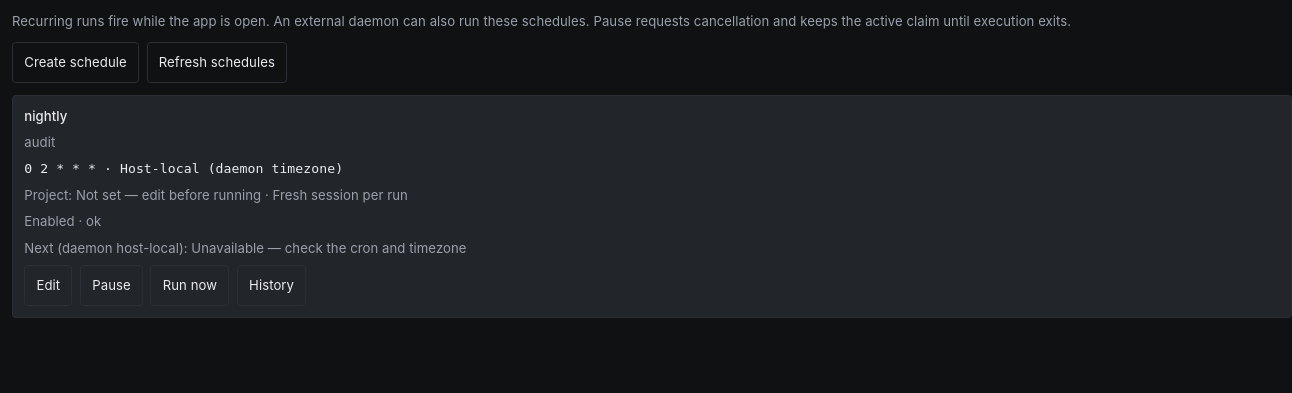
Test: SchedulesPane › expands history via poll
Check: the heading "nightly" is shown, box [24,108,67,124]
What coordinates should you click on to do the following:
click the button with aria-label "History for nightly"
I would click on:
 (272, 285)
Its box is [237,265,306,306].
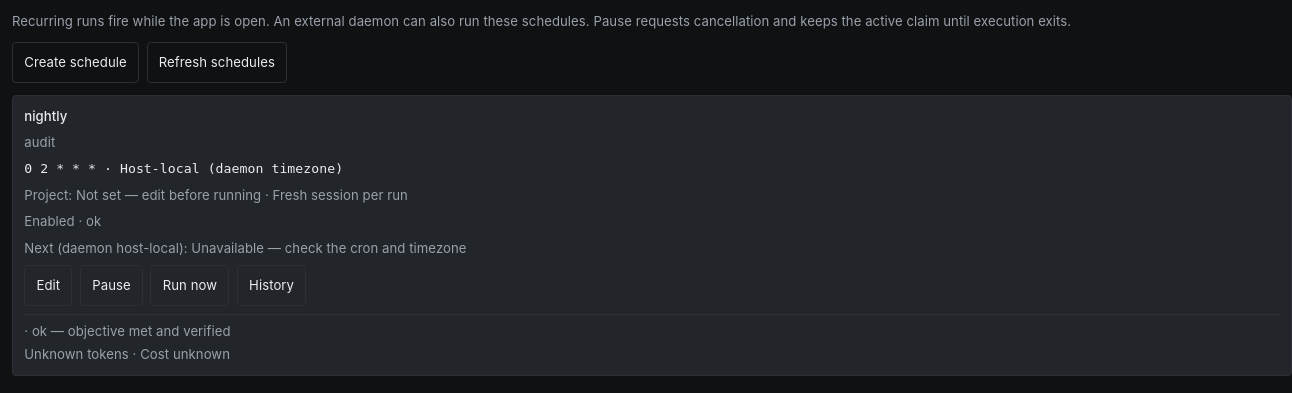
Check: the text "· ok — objective met and verified" is shown, box [24,323,230,339]
